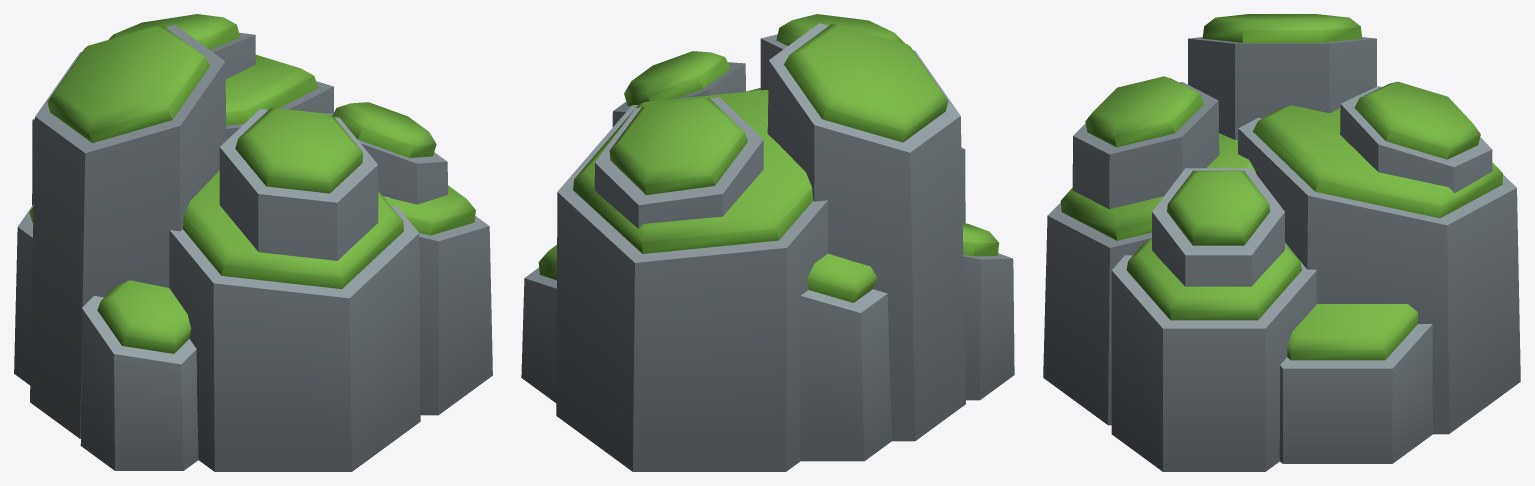
The model's file is mountain_c.glb.
3 views of the same model, side by side, from view 1: azimuth 30°, elevation 25°; view 2: azimuth 150°, elevation 25°; view 3: azimuth 270°, elevation 25° (orthographic). The views are drawn at different scales.
Visible parts, largest first — view 1: mountain_C_grass; view 2: mountain_C_grass; view 3: mountain_C_grass.
Part boxes in pixels (left/top/right/bottom): mountain_C_grass: left=14, top=14, right=492, bottom=471; mountain_C_grass: left=521, top=14, right=1014, bottom=471; mountain_C_grass: left=1043, top=14, right=1520, bottom=471.
Bounding box in the file's own units: 1.76 × 1.55 × 2.02.
Materials: 1 (1 with a texture image).
